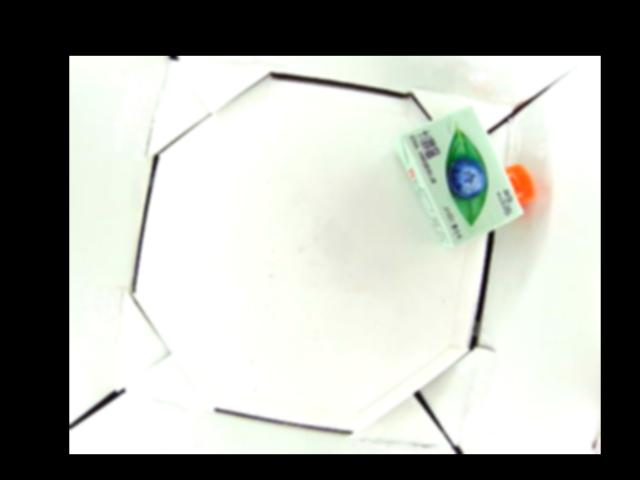Bottle: (393, 101, 538, 248)
